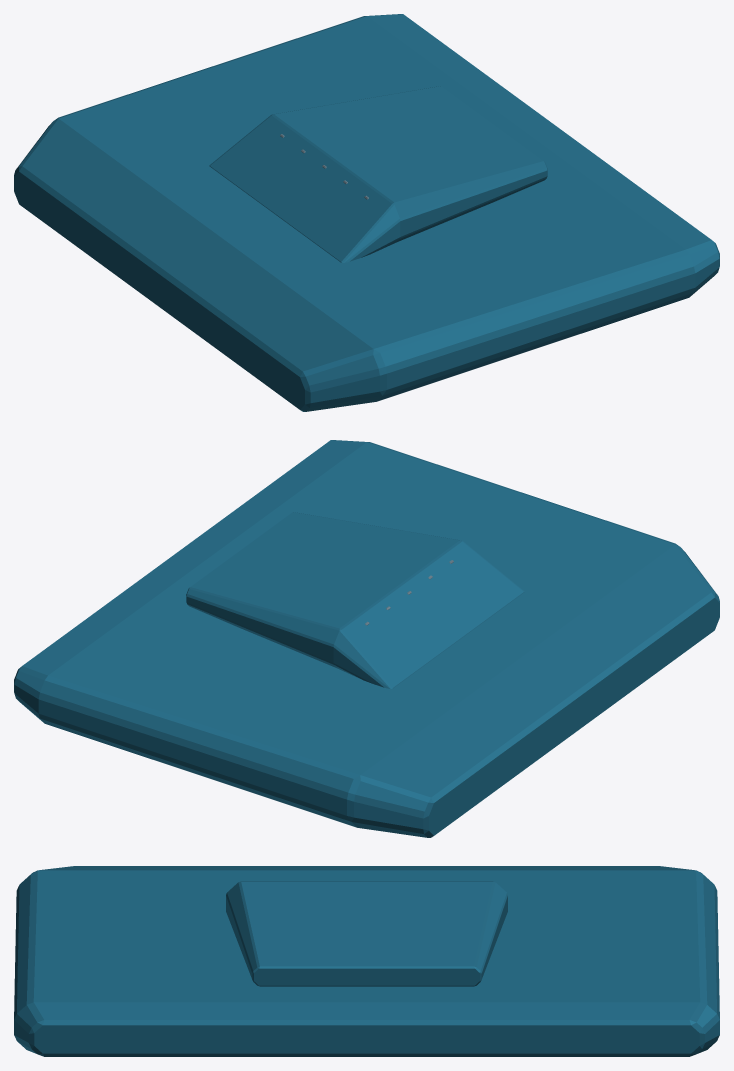
The model's file is EC_VentedHood.fbx.
3 views of the same model, one above another, from view 1: azimuth 30°, elevation 25°; view 2: azimuth 150°, elevation 25°; view 3: azimuth 270°, elevation 25° (orthographic). The views are drawn at different scales.
Visible parts, largest first — view 1: EC_VentedHood; view 2: EC_VentedHood; view 3: EC_VentedHood.
Part boxes in pixels (x1=…): EC_VentedHood: x1=14, y1=14, x2=719, y2=411; EC_VentedHood: x1=14, y1=440, x2=719, y2=837; EC_VentedHood: x1=14, y1=866, x2=719, y2=1056.
Size of the model in its own units: 1.1 by 0.2854 by 1.6.
